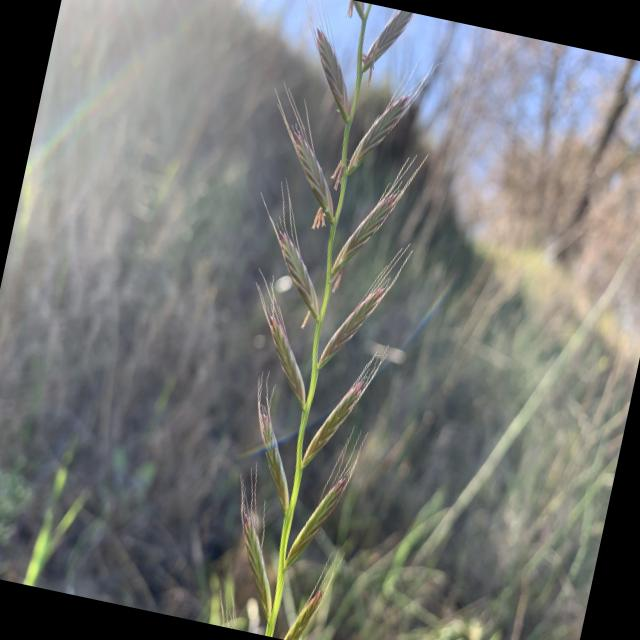Lolium: (161, 0, 466, 640)
